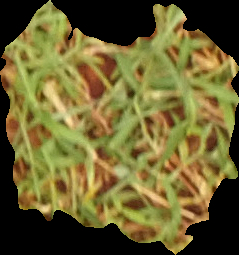grass: (1, 1, 238, 254)
